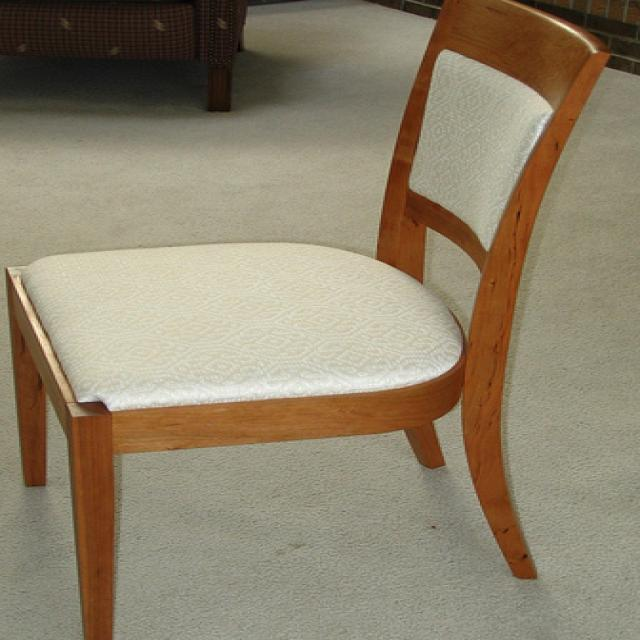chair: (3, 0, 611, 637)
